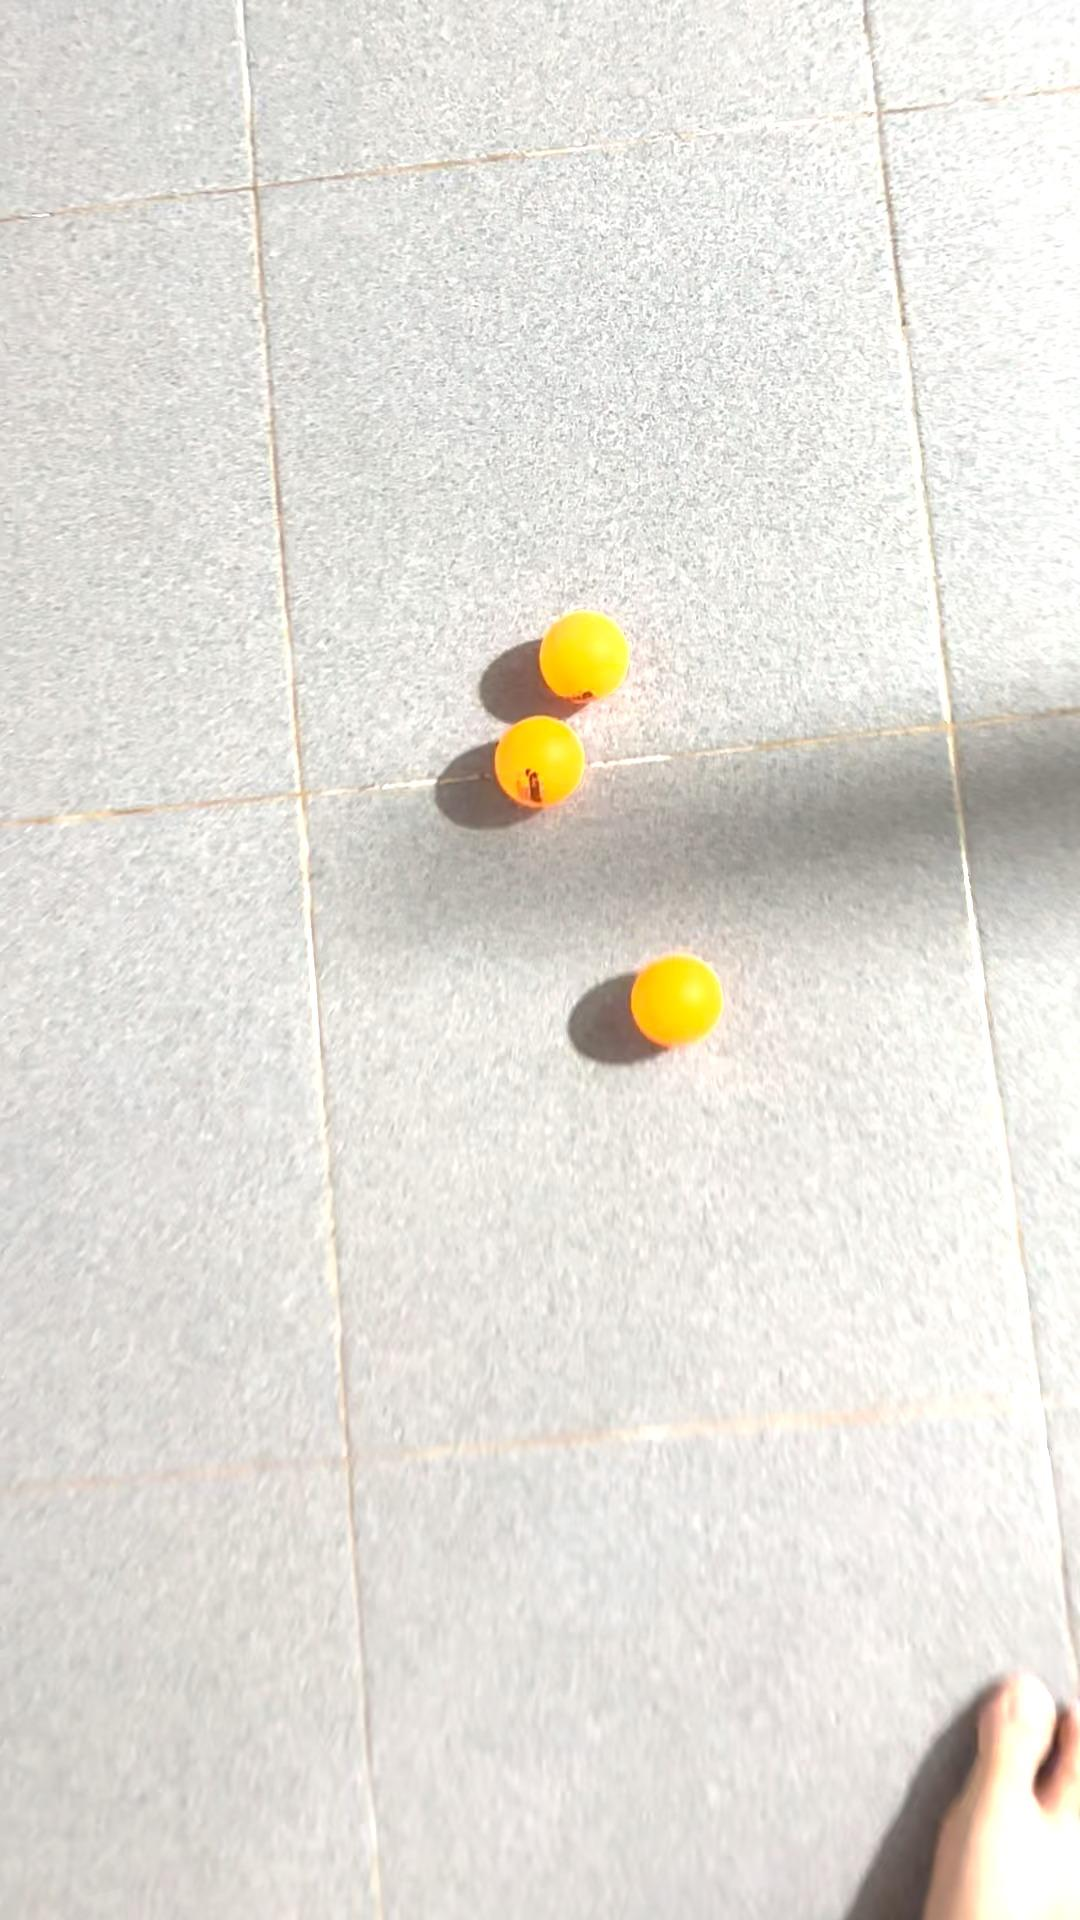oball: (481, 711, 597, 815), (621, 951, 733, 1055), (538, 604, 640, 713)
